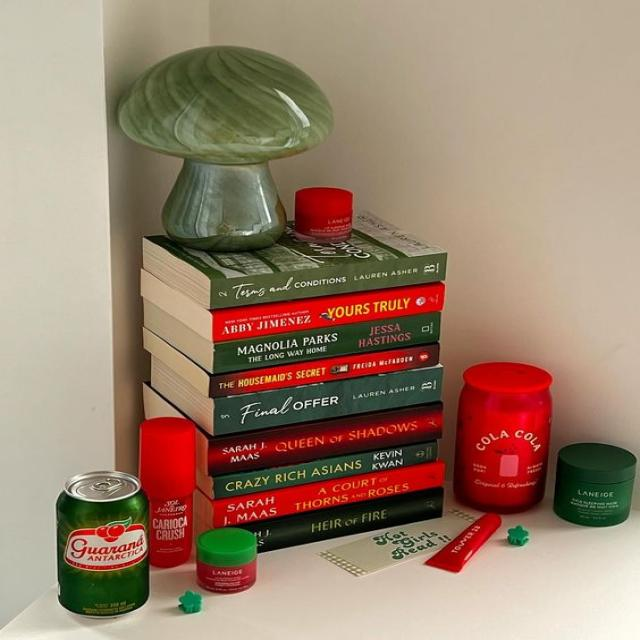book: (209, 403, 444, 475), (214, 460, 444, 527), (213, 367, 441, 432), (212, 282, 445, 342), (233, 488, 443, 554), (210, 311, 440, 371), (211, 441, 439, 498), (209, 344, 441, 400), (212, 252, 446, 307)
